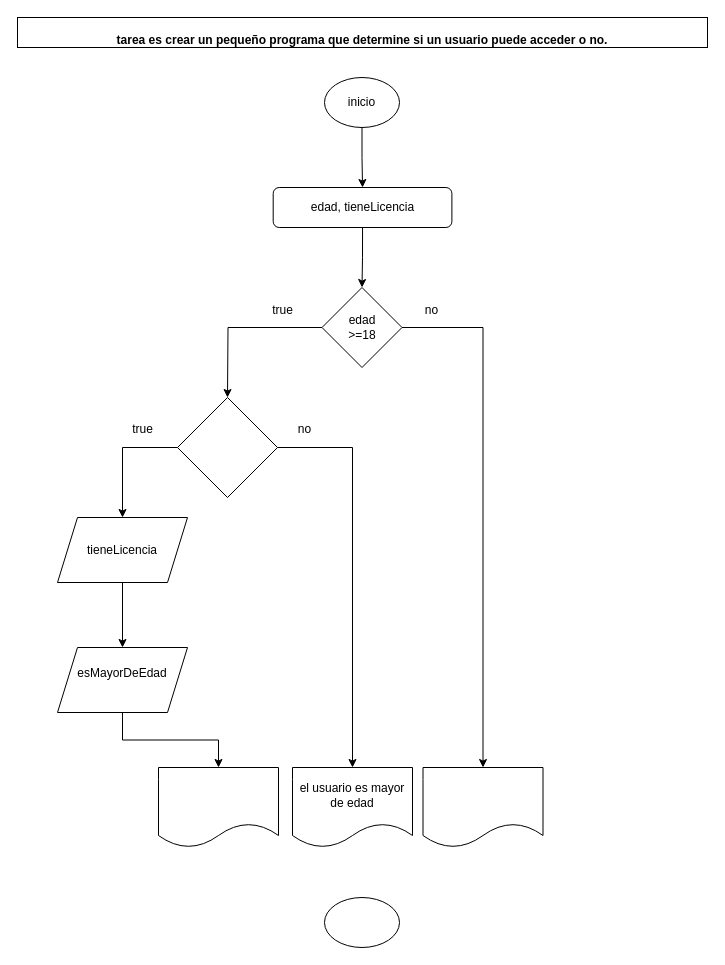
This 725x965 diagram has some shape labels left out. The box of each missing label's shape, as (x1, y1, x2, y2) in pixels:
el usuario es mayor de edad y tiene licencia de conducir: (158, 766, 278, 848)
el usuario no es mayor de edad: (422, 766, 543, 848)
Fin: (324, 896, 400, 948)
tieneLicencia ==true: (176, 396, 278, 498)
